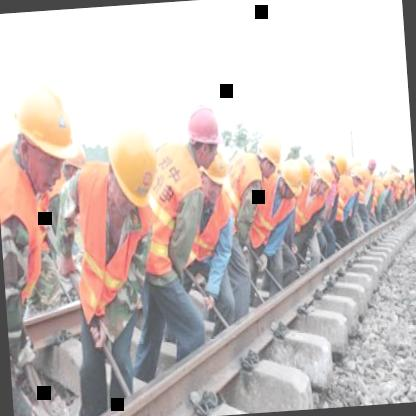helmet: (5, 69, 85, 200), (102, 118, 166, 222), (181, 98, 226, 176), (255, 129, 288, 184), (195, 152, 228, 207), (57, 138, 91, 190), (306, 154, 335, 200), (277, 160, 306, 202), (293, 152, 316, 194), (348, 160, 368, 193), (332, 152, 350, 182)
